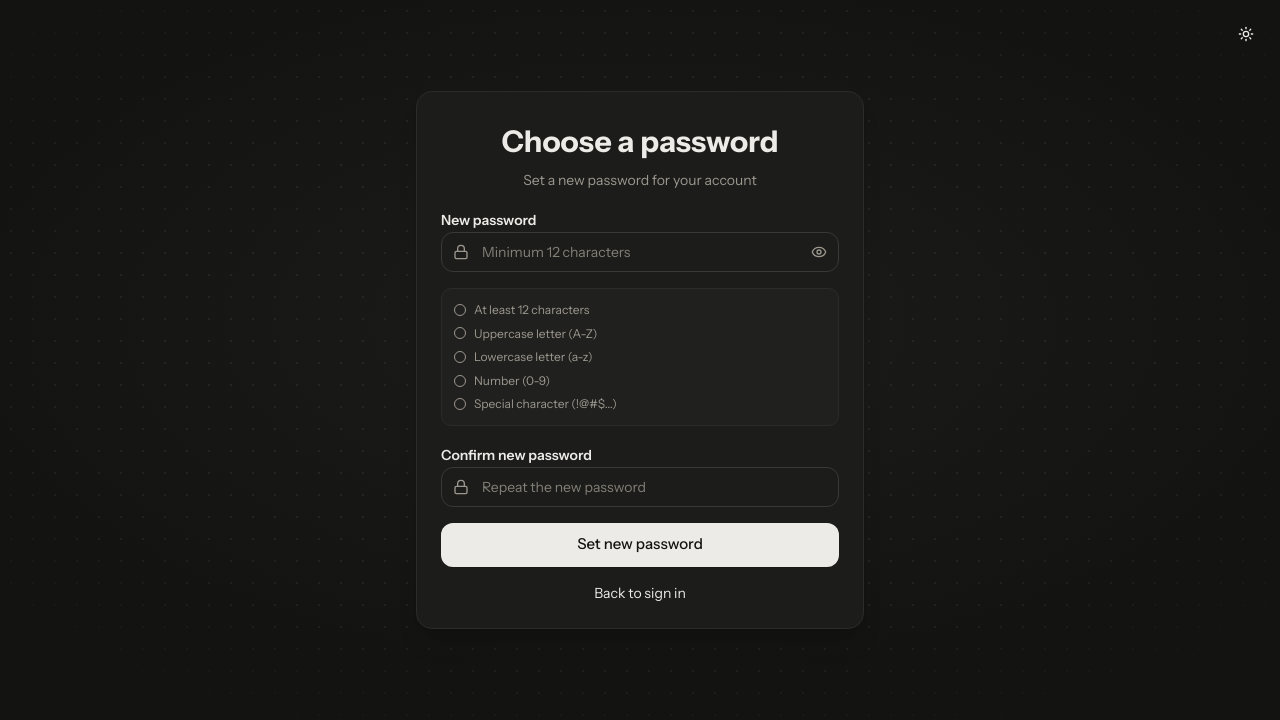
ResetPasswordPage › says the other sessions were signed out
Type "BrandNewPass1!" into the password field labelled "New password".
click(640, 252); type("BrandNewPass1!")  # box [441,232,839,272]
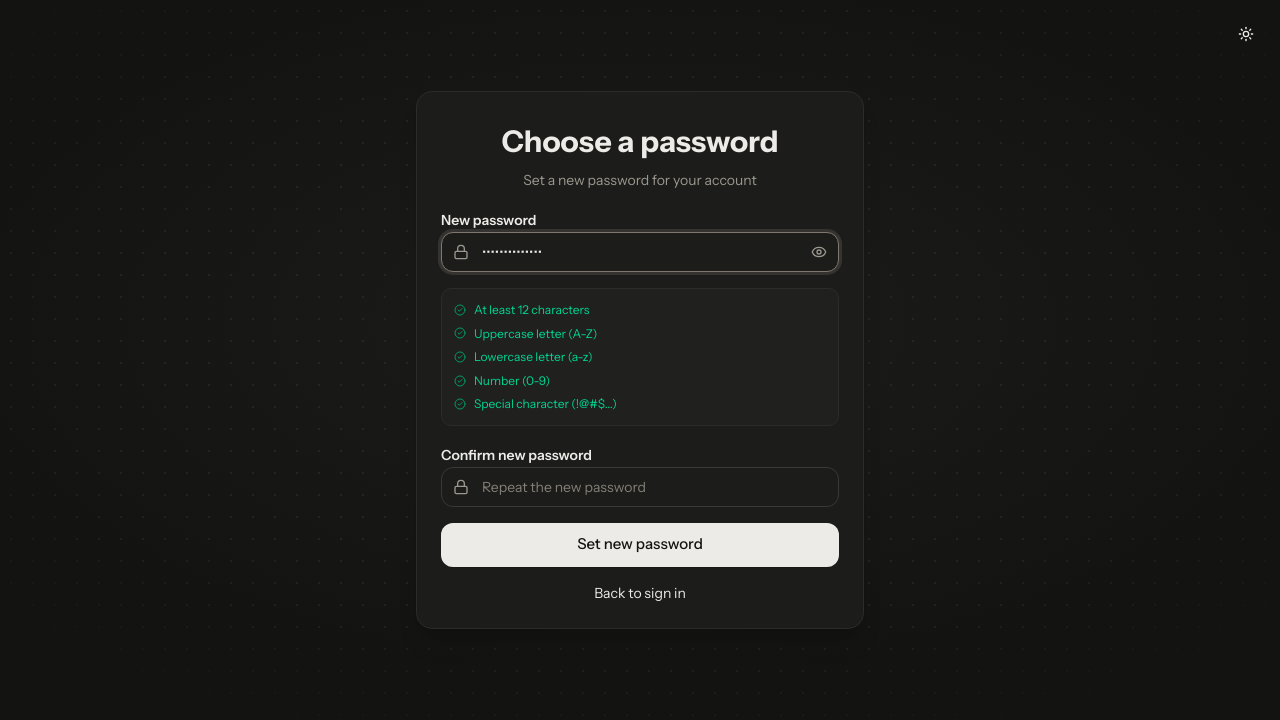
Type "BrandNewPass1!" into the password field labelled "Confirm new password".
click(640, 487); type("BrandNewPass1!")  # box [441,467,839,507]
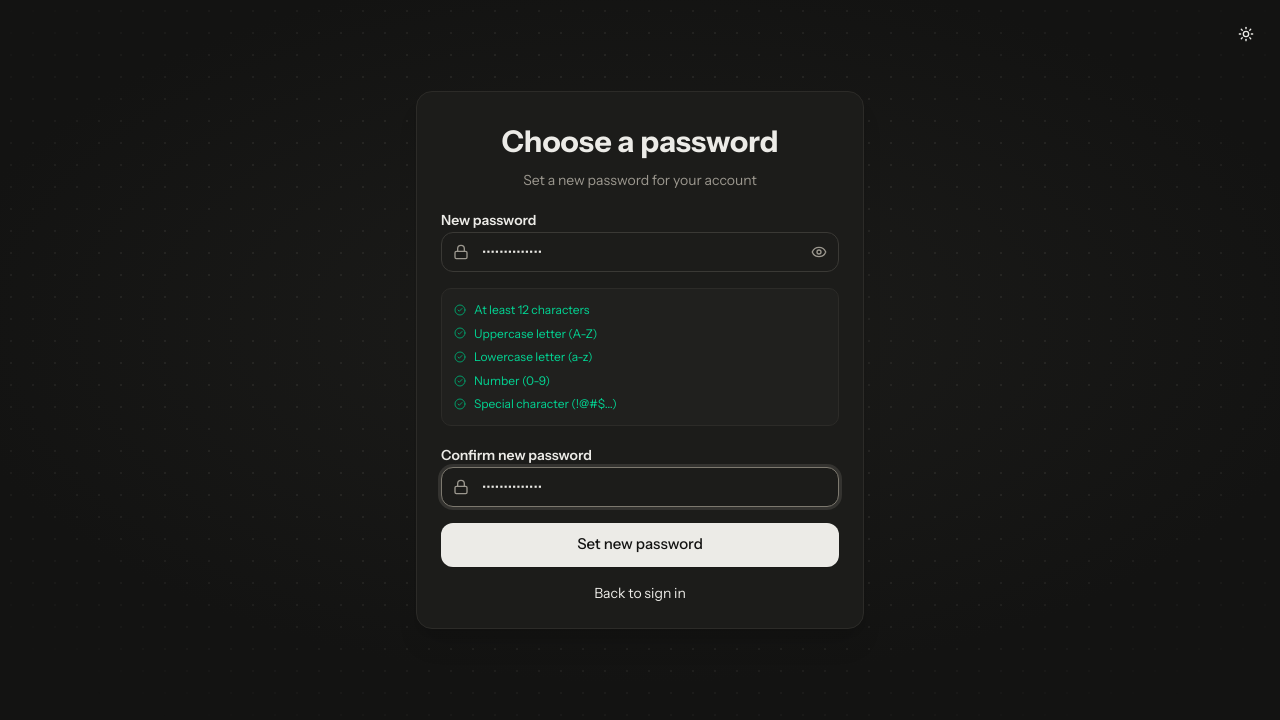
Click the button "Set new password".
click(640, 545)  # box [441,523,839,567]
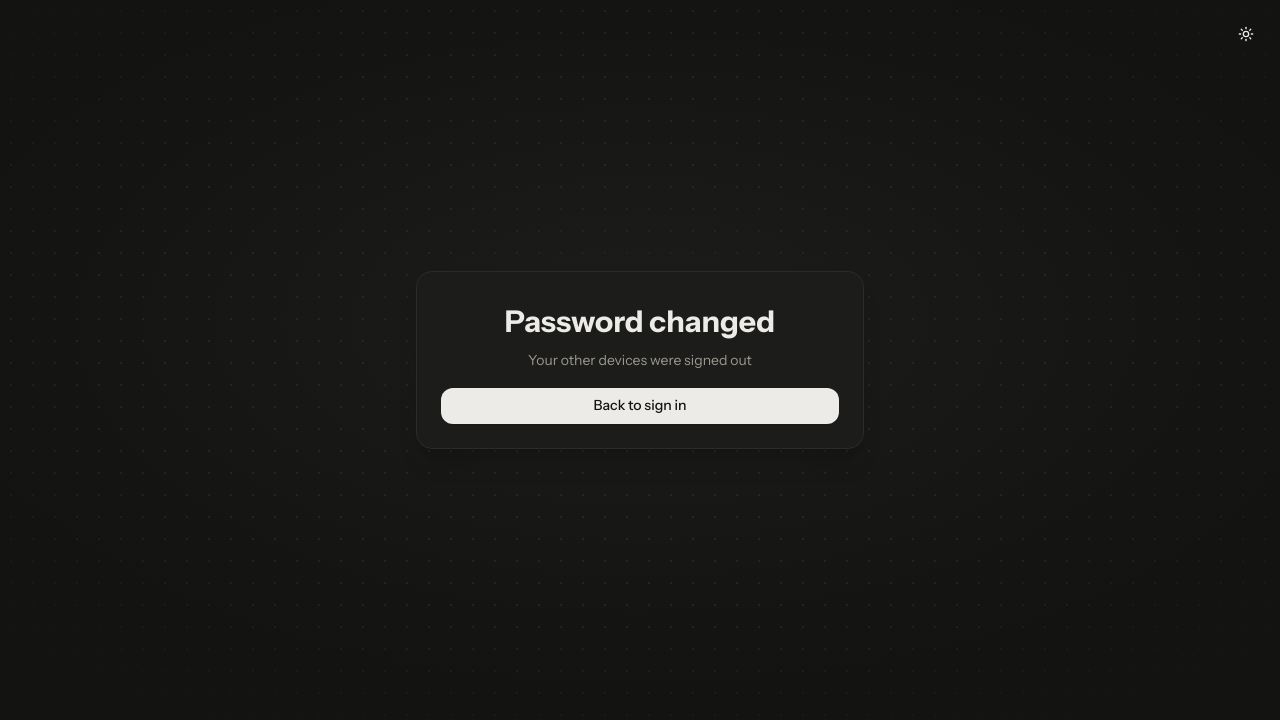
Now the text "Password changed" is shown, box [505,303,775,340]
Now the text "Your other devices were signed out" is shown, box [528,351,752,369]
